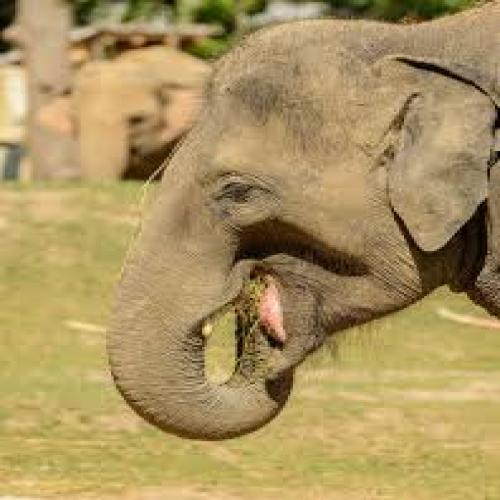asian_elephant-endangered: (104, 1, 500, 440)
